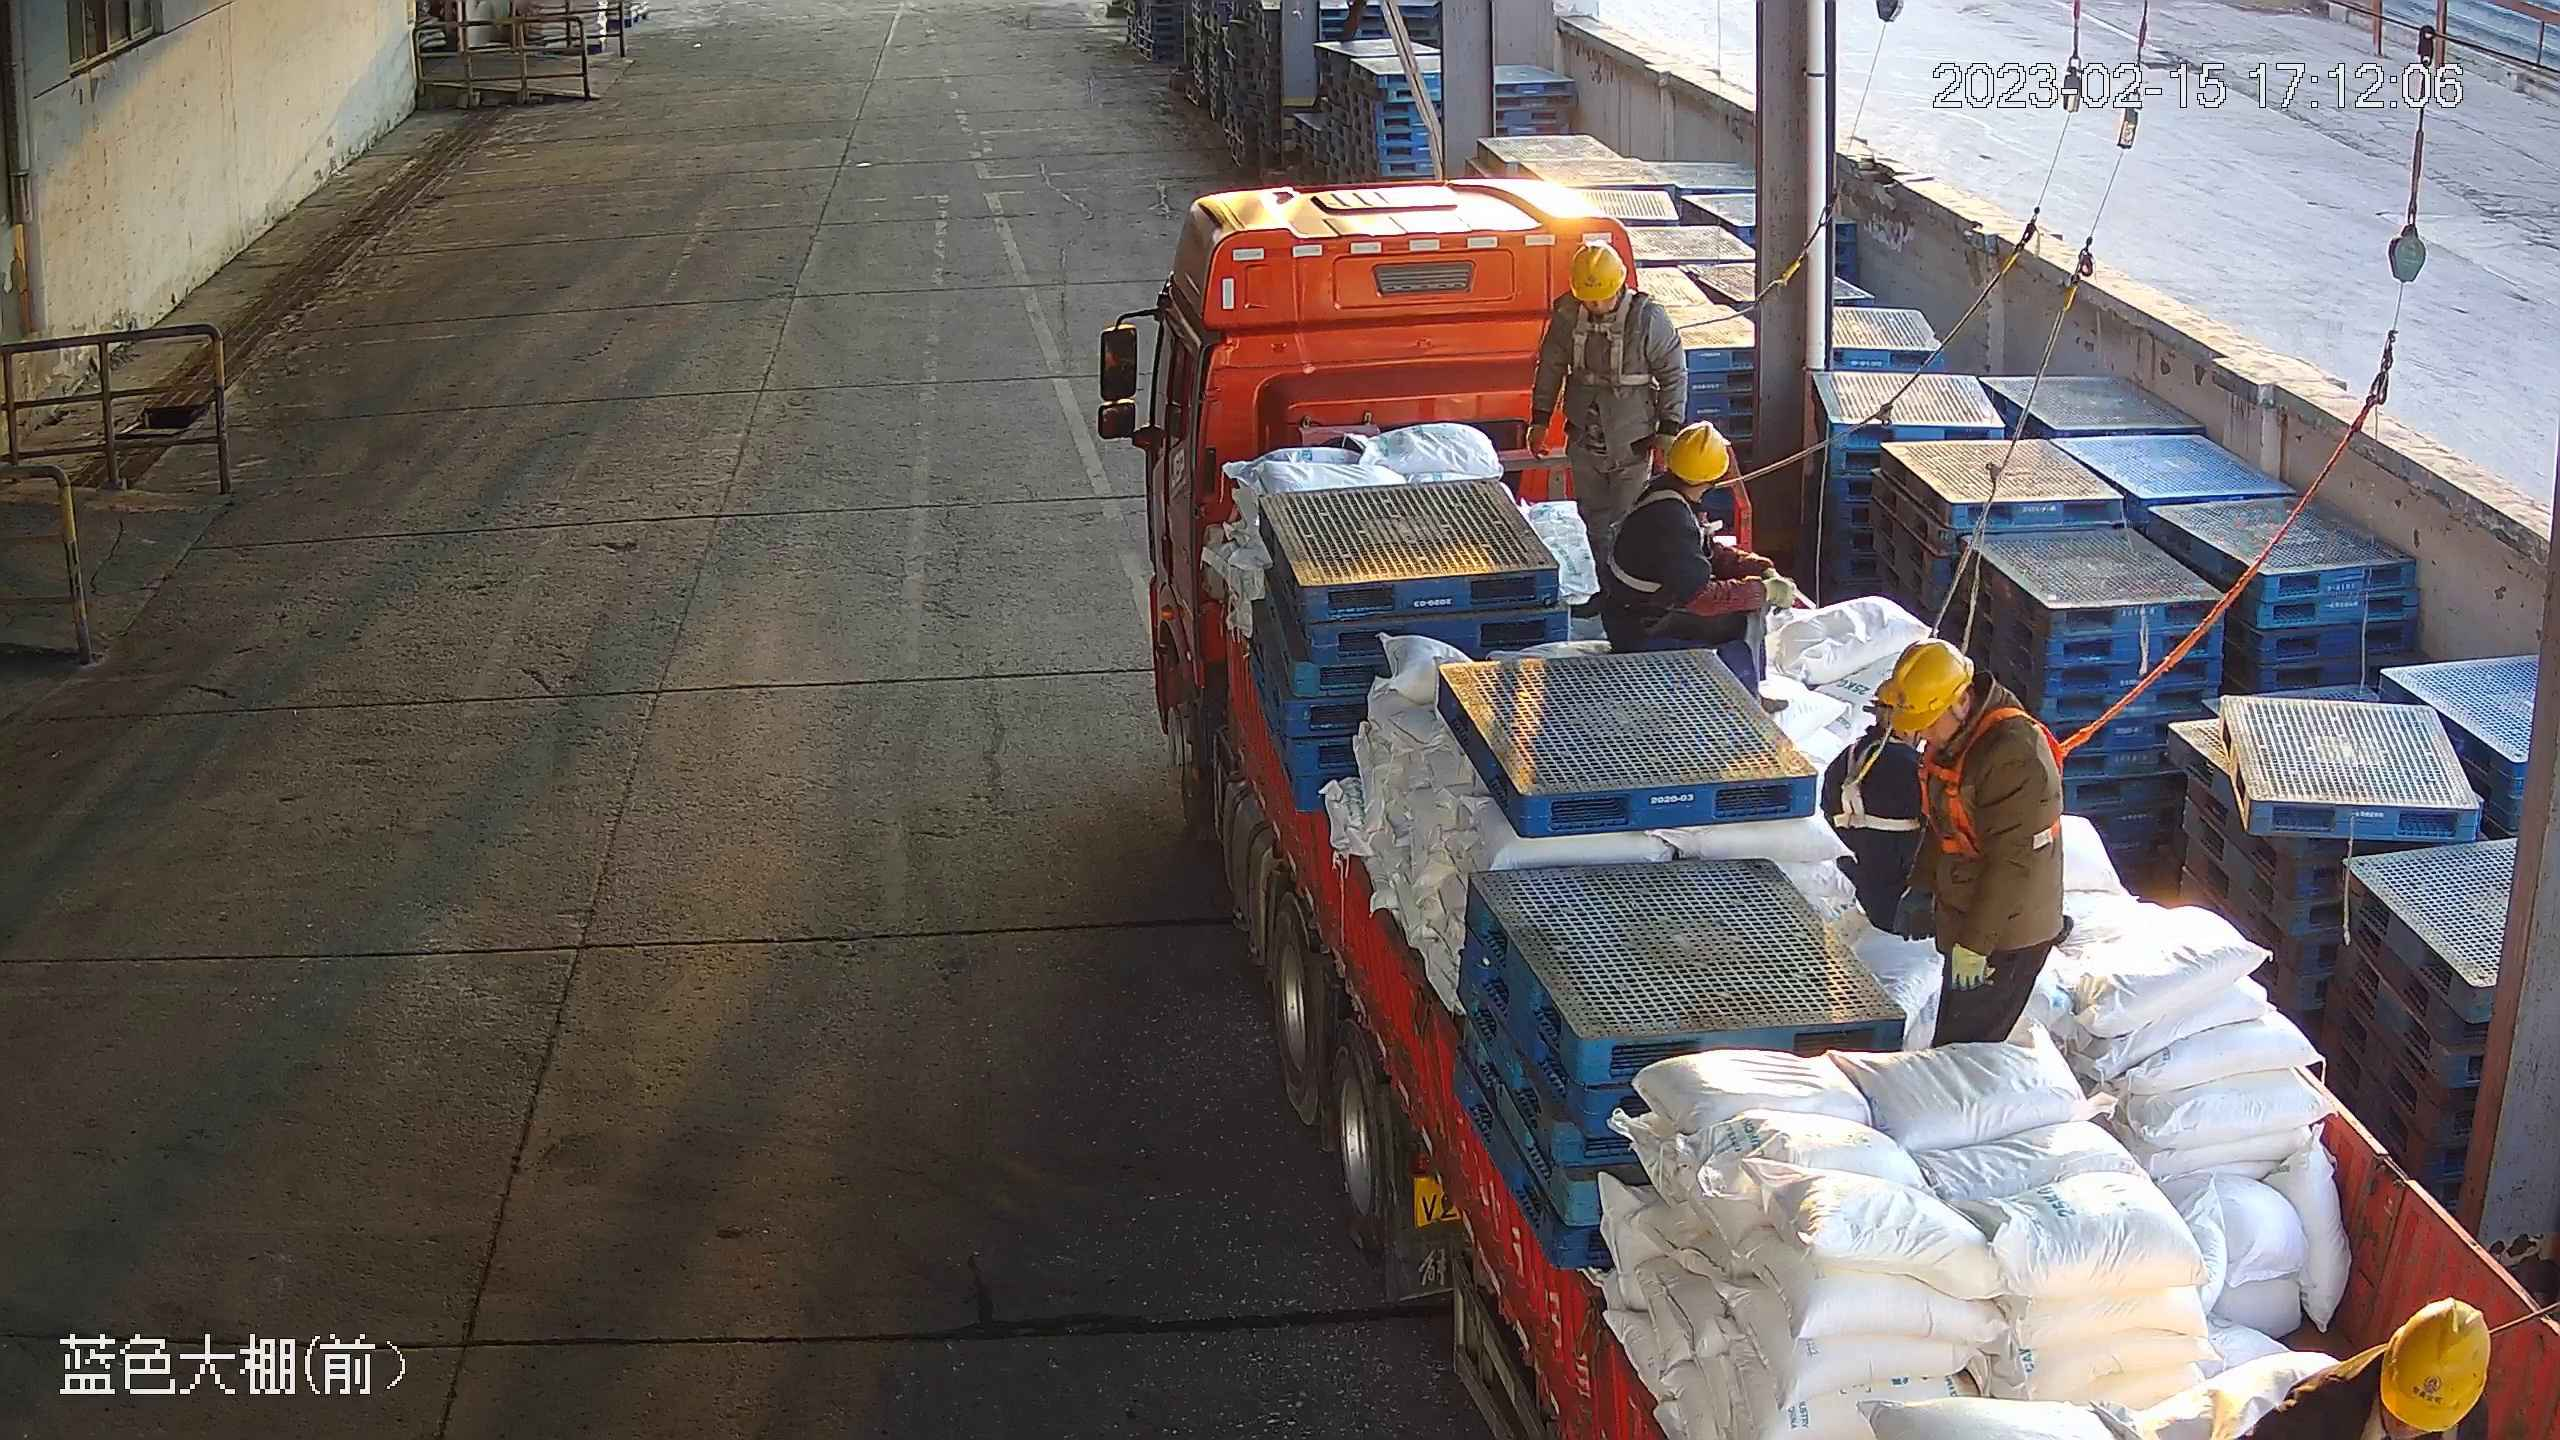belt: (1917, 708, 2086, 860), (1607, 490, 1724, 594), (1828, 737, 1922, 831), (1569, 290, 1654, 386)
head: (1886, 636, 2066, 807), (1546, 242, 1676, 357), (1630, 421, 1733, 558)
helmet: (2378, 1295, 2496, 1435), (1887, 636, 1974, 734), (1665, 421, 1731, 483), (1568, 241, 1628, 302)
people: (1887, 636, 2065, 1046), (1528, 241, 1687, 618), (1602, 420, 1798, 715), (1819, 678, 1928, 940)
truck: (1094, 179, 2560, 1440)
